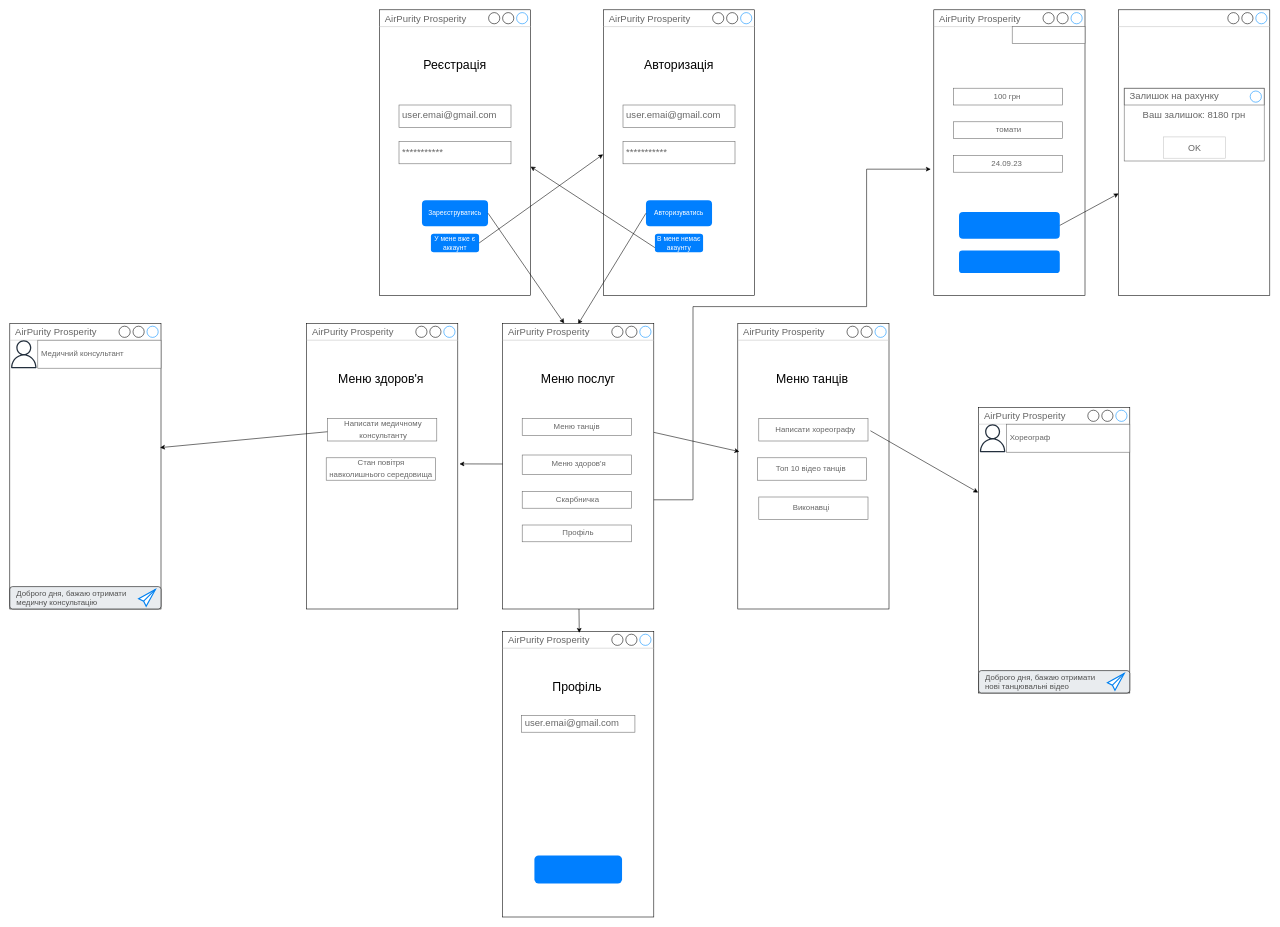
The diagram is 1280 pixels wide and 927 high, and some of its shapes have lost their labels. The box of each missing label's shape, as (x1, y1, x2, y2) in pixels:
Window Title: (1118, 9, 1270, 295)
Вийти з облікового запису: (534, 855, 622, 883)
Додати витрату: (959, 212, 1060, 239)
Додати прибуток: (959, 250, 1060, 273)
Залишок: 8280: (1012, 26, 1085, 43)
